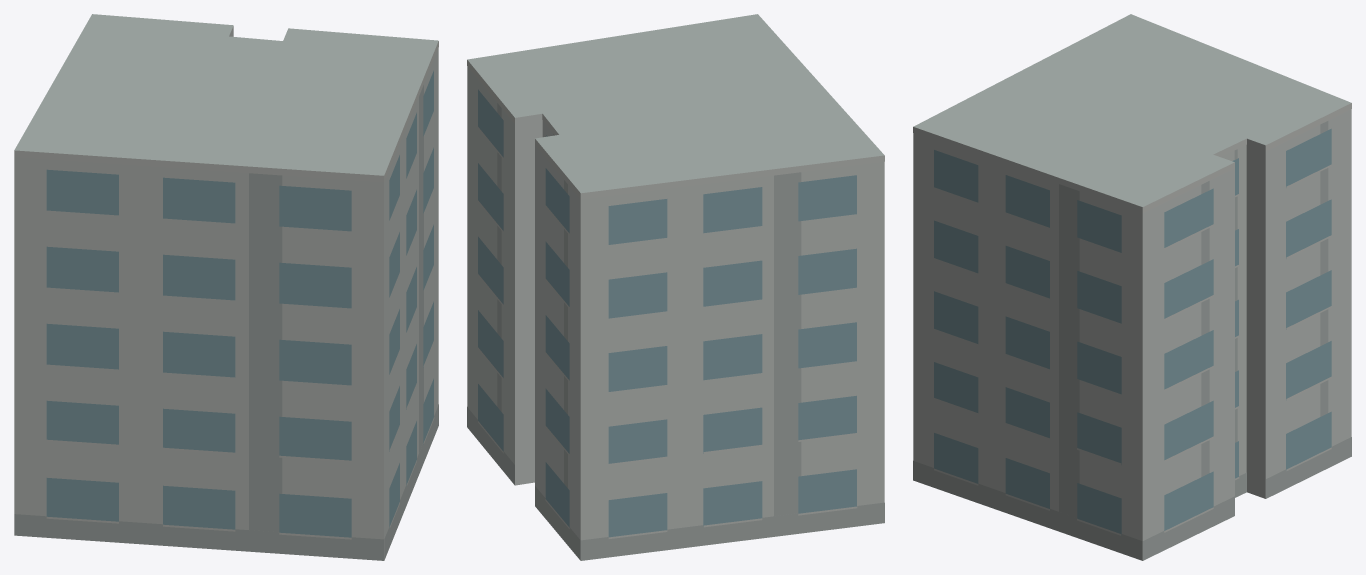
The model's file is survey-upis-32963725.glb.
The picture shows the model from 3 angles, left to right: view 1: azimuth 30°, elevation 25°; view 2: azimuth 150°, elevation 25°; view 3: azimuth 270°, elevation 25°; orthographic projection. The views are drawn at different scales.
Parts seen in each view (by area): view 1: survey-upis-32963725.tmp; view 2: survey-upis-32963725.tmp; view 3: survey-upis-32963725.tmp.
Part boxes in pixels (x1,y1,x2,y2): survey-upis-32963725.tmp: (14, 14, 438, 560); survey-upis-32963725.tmp: (467, 14, 884, 560); survey-upis-32963725.tmp: (913, 14, 1351, 560).
Size of the model in its own units: 16.47 by 14.05 by 15.8.
